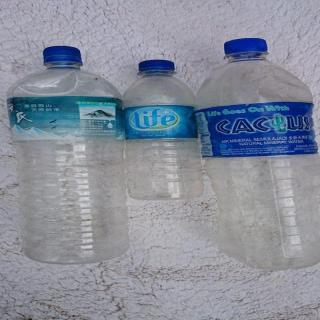Plastic-bottle: (197, 36, 320, 274), (4, 44, 134, 267), (116, 58, 209, 206)
